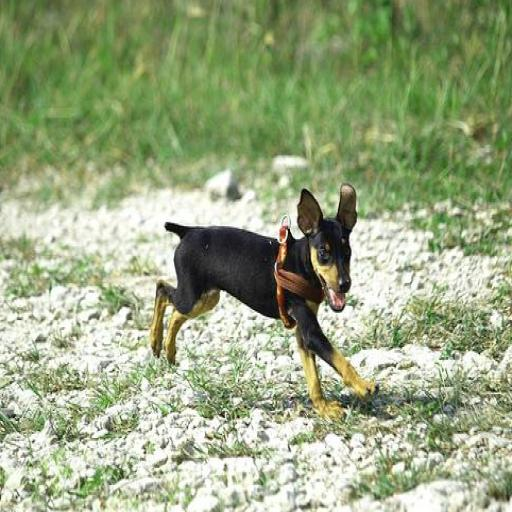dog_face: (294, 185, 360, 310)
